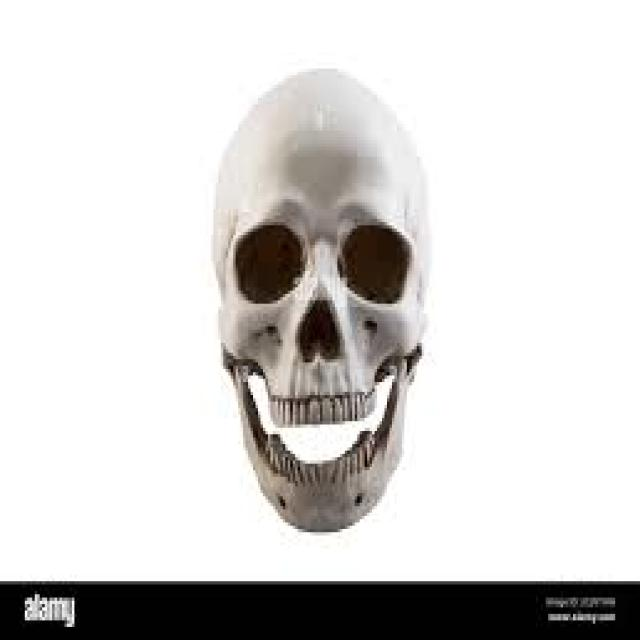skull: (202, 50, 448, 541)
